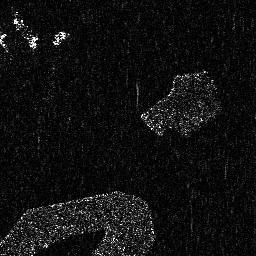ship: (12, 16, 39, 49)
